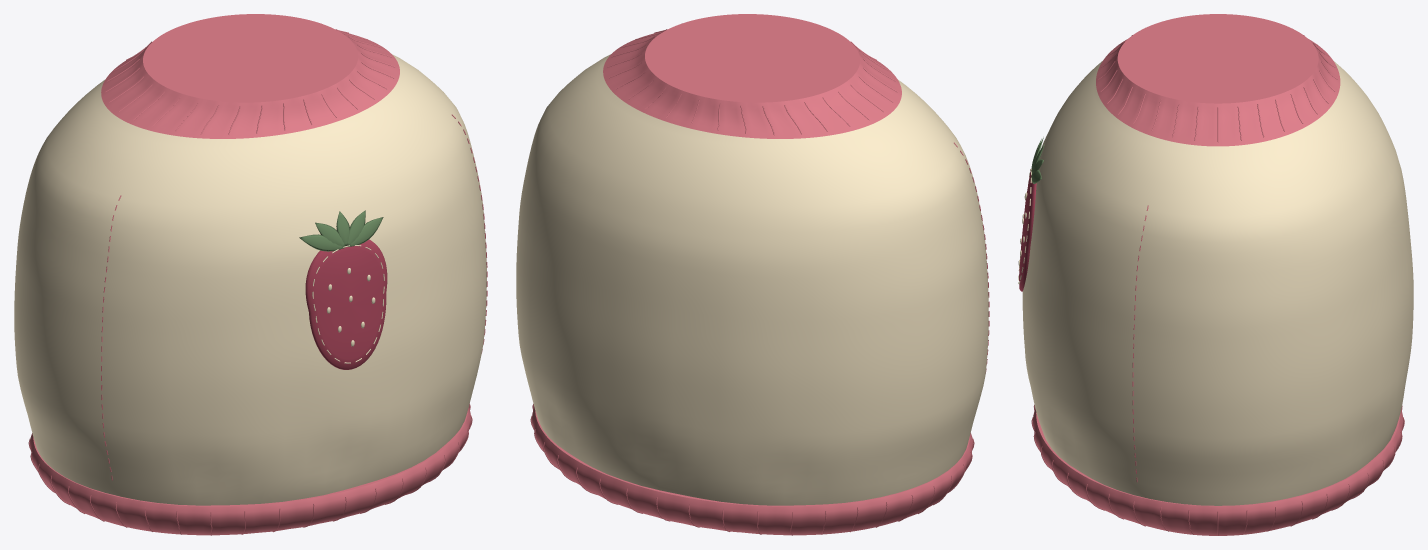
The picture shows the model from 3 angles, left to right: view 1: azimuth 30°, elevation 25°; view 2: azimuth 150°, elevation 25°; view 3: azimuth 270°, elevation 25°; orthographic projection. The views are drawn at different scales.
Parts seen in each view (by area): view 1: Body_mesh; view 2: Body_mesh; view 3: Body_mesh.
Part boxes in pixels (x1,y1,x2,y2): Body_mesh: [14, 14, 487, 535]; Body_mesh: [516, 14, 989, 535]; Body_mesh: [1018, 14, 1413, 535].
Size of the model in its own units: 0.354 by 0.337 by 0.2912.
